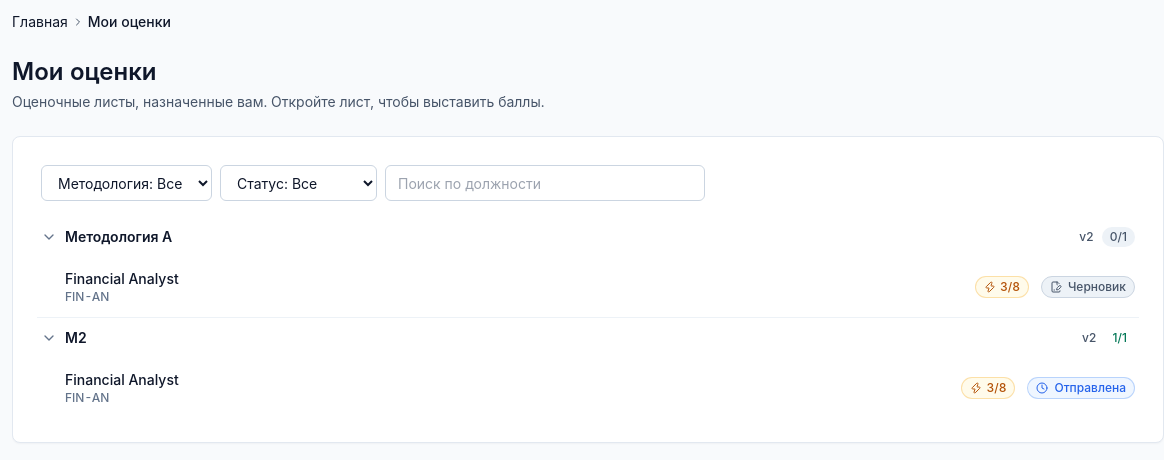
it: <MyEvaluationsPage /> (Feature 1 + Part 4) › status filter narrows visible rows
Select "Отправлена" in the dropdown with test id "my-evaluations-filter-status" at (298, 183), box [220,165,377,201]
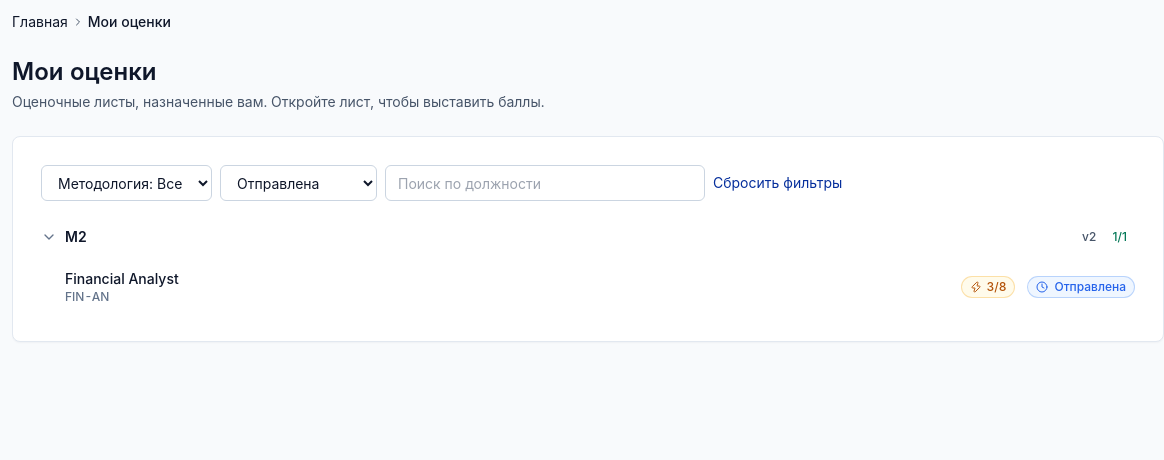
Expected: the link with test id "open-my-evaluation-eval-s2" is shown, [65,270,1135,304]
Result: the link with test id "open-my-evaluation-eval-s1" is gone
